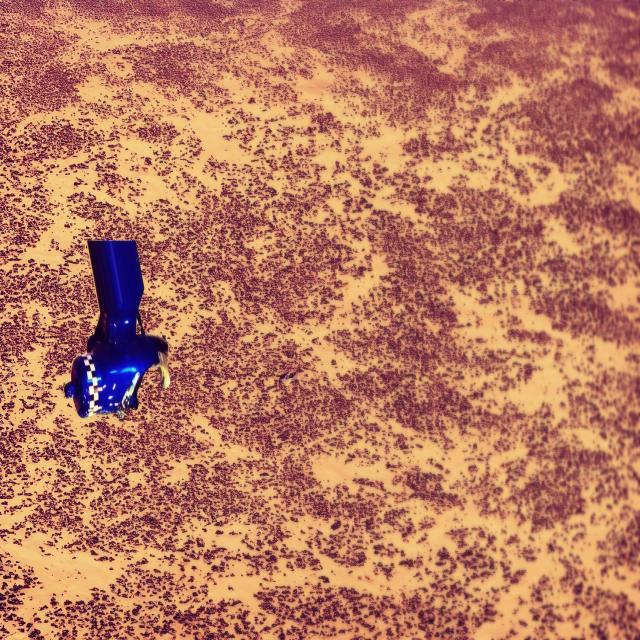airplane: (64, 238, 170, 418)
